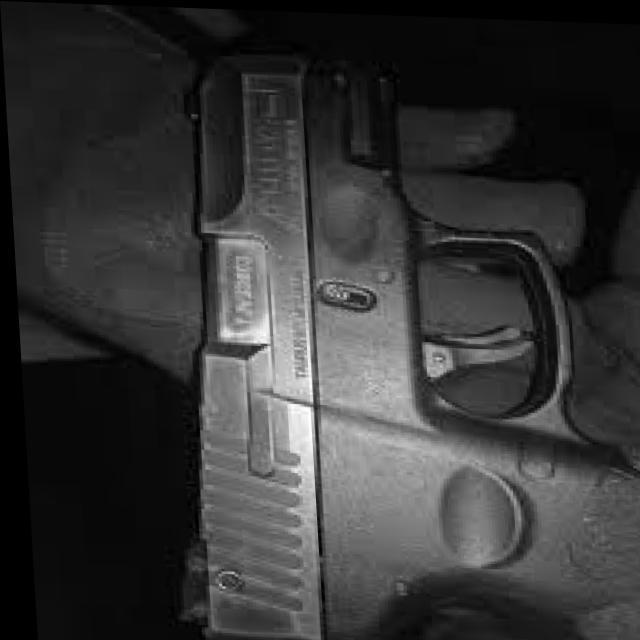handgun: (145, 38, 640, 640)
